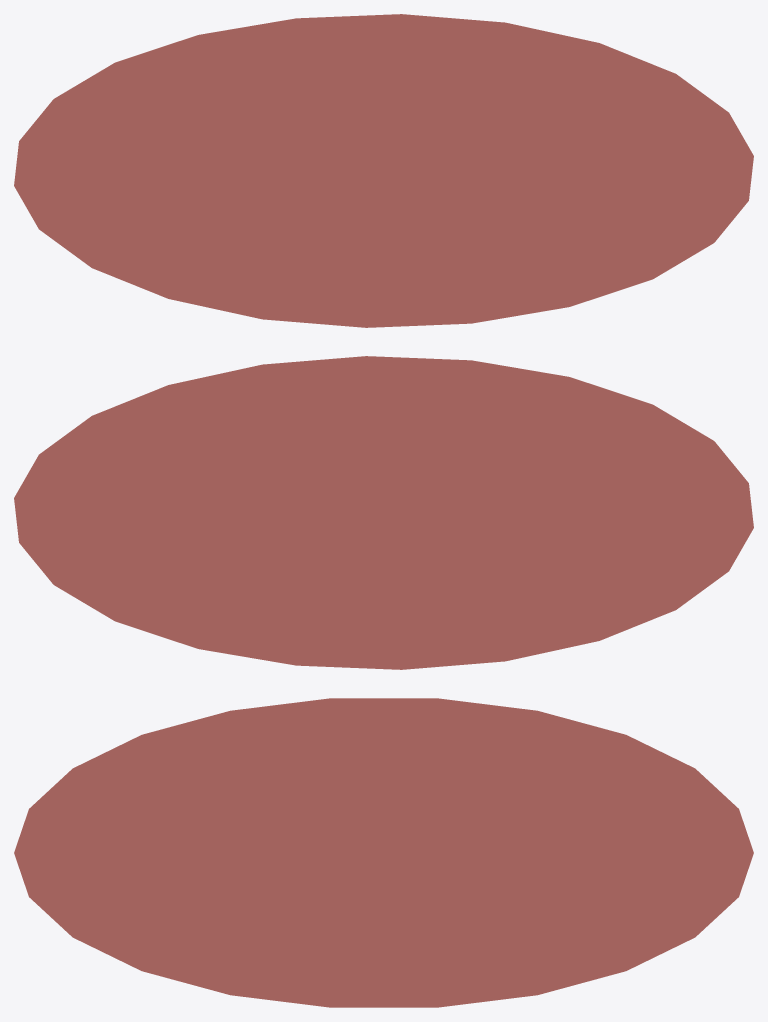
File: Shadow.fbx
The picture shows the model from 3 angles, top to bottom: view 1: azimuth 30°, elevation 25°; view 2: azimuth 150°, elevation 25°; view 3: azimuth 270°, elevation 25°; orthographic projection.
Visible parts, largest first — view 1: 円; view 2: 円; view 3: 円.
Boxes of the visible parts, x1,y1,x2,y2 form: 円: [14, 14, 753, 327]; 円: [14, 356, 753, 669]; 円: [14, 698, 753, 1007].
Size of the model in its own units: 1.98 by 0 by 2.
